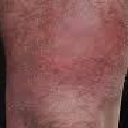Cellulitis: (16, 10, 118, 90)
